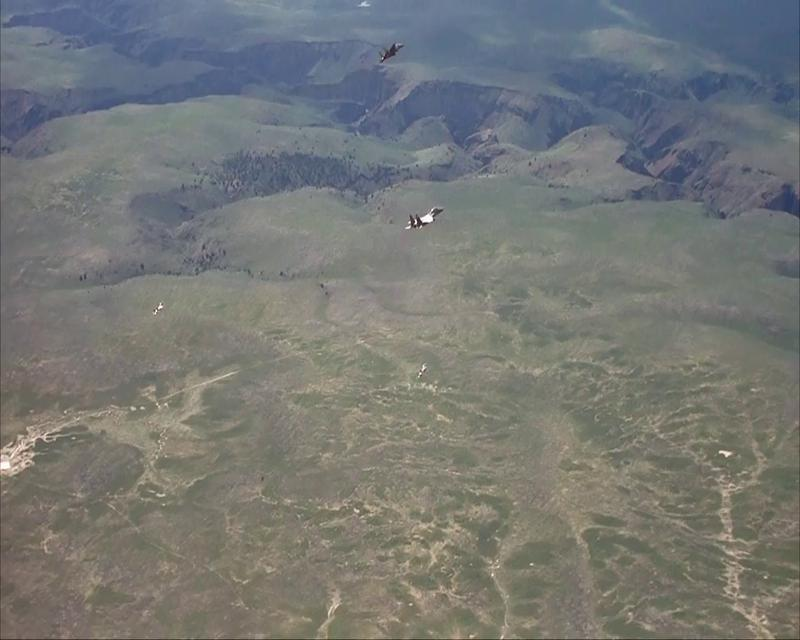UAV: (403, 205, 444, 230), (374, 39, 406, 65)
